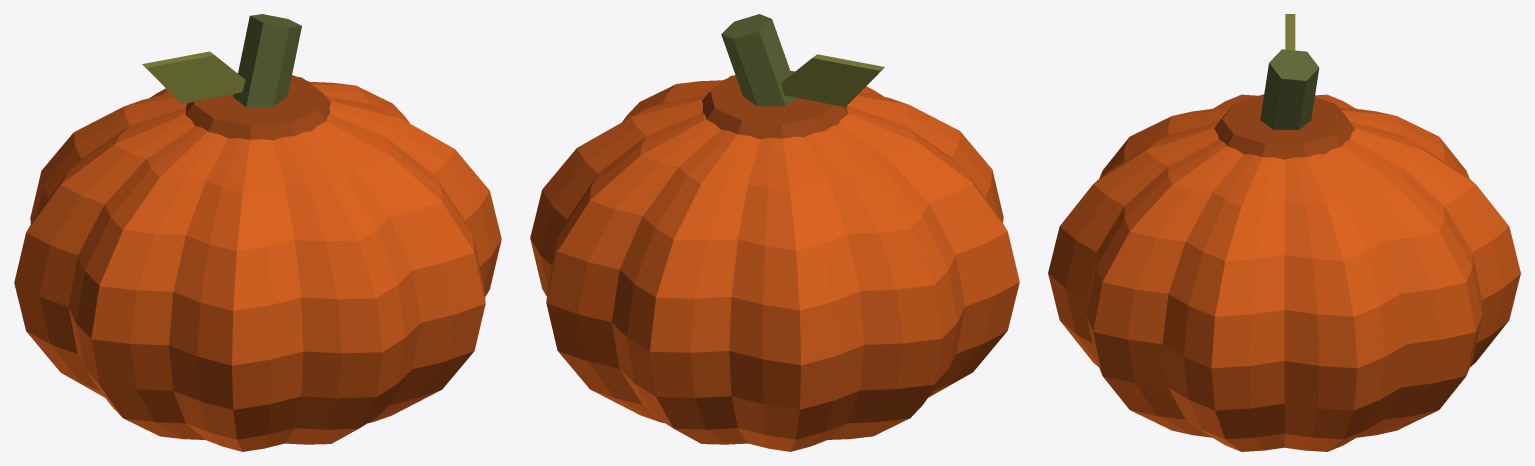
File: pumpkin.glb
3 renders of one model, left to right at view 1: azimuth 30°, elevation 25°; view 2: azimuth 150°, elevation 25°; view 3: azimuth 270°, elevation 25°, orthographic. The views are drawn at different scales.
Visible parts, largest first — view 1: Harvest pumpkin; view 2: Harvest pumpkin; view 3: Harvest pumpkin.
Boxes of the visible parts, <box> form: Harvest pumpkin: <box>14,14,501,451</box>; Harvest pumpkin: <box>530,14,1019,451</box>; Harvest pumpkin: <box>1048,14,1520,451</box>.
Bounding box in the file's own units: 1.15 × 1.07 × 1.21.
